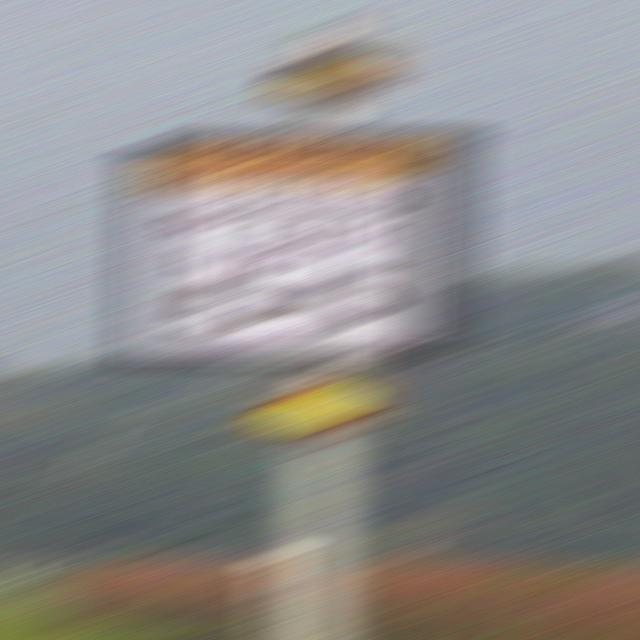speedLimit55: (146, 182, 430, 350)
